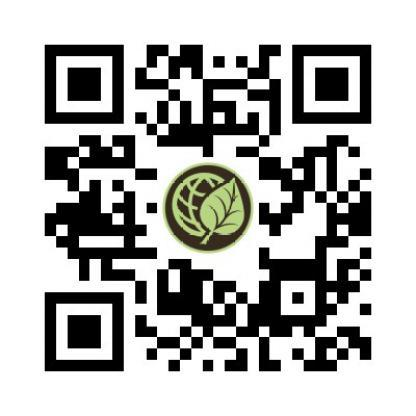qr_code: (44, 44, 372, 371)
